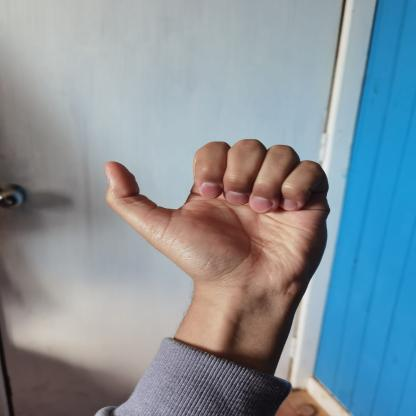E: (93, 125, 341, 306)
